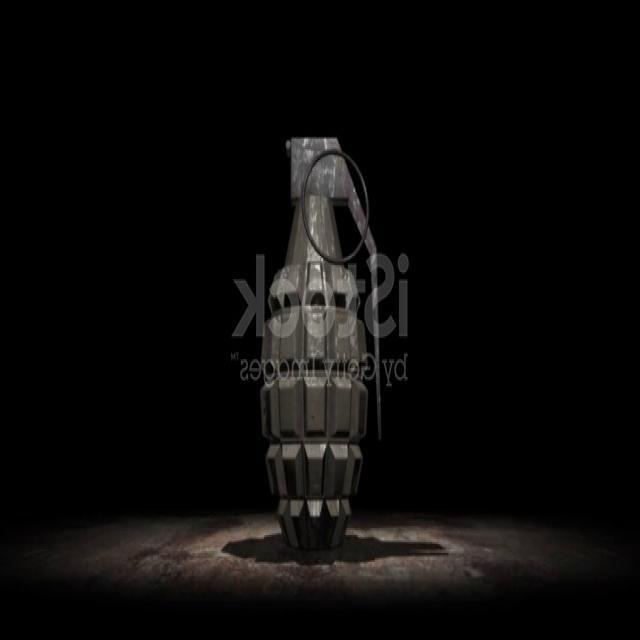grenade: (254, 132, 389, 550)
